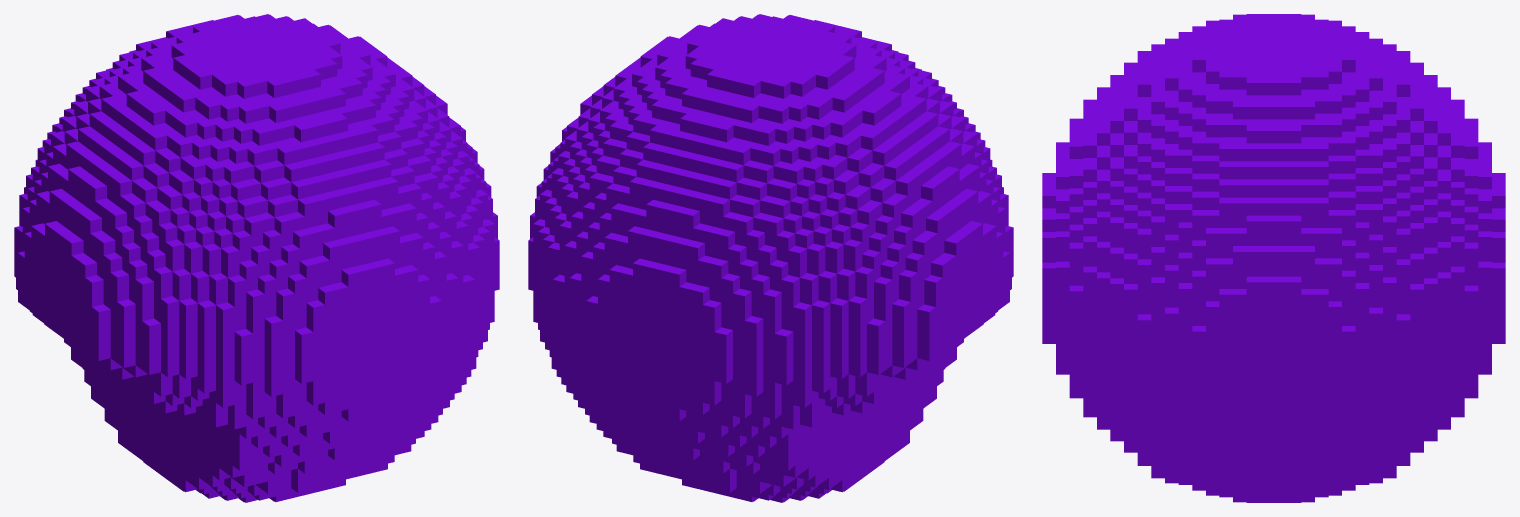
Rendered from hair_afro.obj.
3 views of the same model, side by side, from view 1: azimuth 30°, elevation 25°; view 2: azimuth 150°, elevation 25°; view 3: azimuth 270°, elevation 25° (orthographic).
Visible parts, largest first — view 1: Sphere; view 2: Sphere; view 3: Sphere.
Part boxes in pixels (x1,y1,x2,y2): Sphere: (14, 14, 499, 502); Sphere: (528, 14, 1013, 502); Sphere: (1042, 14, 1505, 502).
Size of the model in its own units: 34 by 34 by 34.
